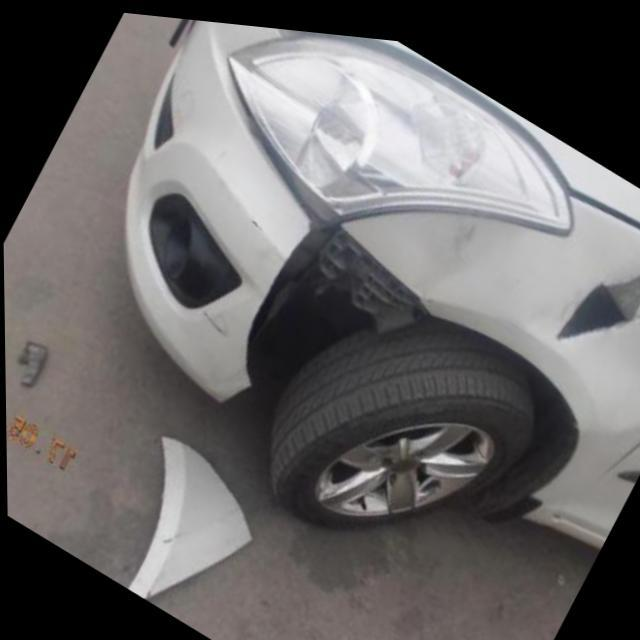crack: (555, 258, 640, 332)
dislocated part: (209, 204, 325, 378)
